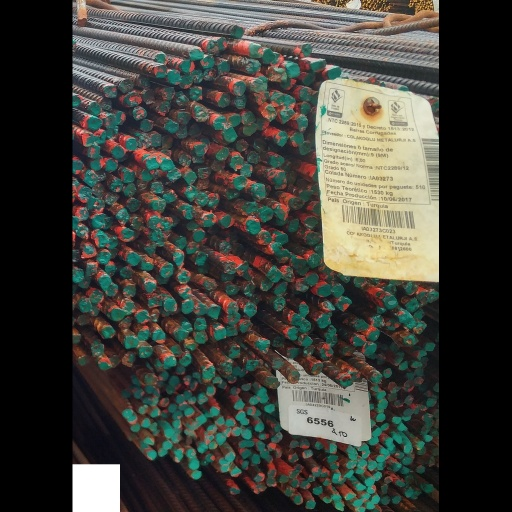dipstick: (168, 106, 187, 124), (71, 93, 97, 106), (287, 107, 308, 123), (194, 115, 218, 129), (293, 77, 315, 92), (247, 184, 269, 199), (108, 228, 130, 243), (108, 329, 130, 344), (96, 88, 115, 105), (224, 95, 247, 109), (236, 122, 259, 136), (280, 170, 301, 185), (149, 59, 173, 72), (324, 231, 348, 244), (272, 153, 294, 167), (113, 66, 135, 80), (144, 109, 166, 123), (118, 101, 140, 115), (121, 156, 143, 170), (107, 199, 129, 213), (34, 357, 56, 371), (201, 60, 220, 76), (298, 63, 318, 78), (203, 92, 223, 107), (127, 120, 147, 135), (62, 79, 87, 91), (179, 213, 199, 228), (44, 190, 64, 205), (340, 282, 360, 297), (311, 317, 331, 332), (252, 138, 275, 151), (341, 314, 364, 327), (280, 68, 301, 82), (208, 127, 229, 141), (324, 216, 345, 230), (368, 297, 389, 311), (342, 345, 363, 359), (188, 194, 206, 210), (31, 232, 49, 248), (139, 251, 155, 269), (50, 308, 74, 320), (478, 320, 496, 336), (317, 72, 339, 85), (242, 60, 264, 73), (166, 143, 188, 156), (85, 310, 107, 323), (304, 132, 323, 147), (219, 155, 238, 170), (152, 204, 171, 219), (362, 283, 381, 298), (68, 299, 87, 314), (264, 106, 284, 120), (83, 106, 103, 120), (25, 157, 45, 171), (102, 215, 122, 229), (213, 323, 233, 337), (72, 335, 92, 349), (256, 338, 276, 352), (216, 345, 236, 359), (160, 48, 183, 60), (67, 229, 90, 241), (385, 335, 410, 346), (164, 70, 185, 83), (172, 177, 193, 190), (75, 198, 96, 211), (268, 377, 289, 390), (6, 224, 23, 240), (282, 131, 300, 146), (165, 85, 183, 100), (171, 192, 189, 207), (284, 205, 302, 220), (16, 171, 34, 186), (7, 185, 25, 200), (34, 249, 52, 264), (100, 241, 118, 256), (247, 43, 266, 57), (185, 41, 204, 55), (312, 116, 331, 130), (132, 70, 151, 84), (203, 215, 222, 229), (25, 215, 44, 229), (13, 244, 32, 258), (120, 263, 139, 277), (349, 299, 368, 313), (434, 294, 453, 308), (463, 280, 482, 294), (416, 314, 435, 328), (282, 283, 304, 295), (236, 110, 256, 123), (122, 135, 142, 148), (452, 309, 472, 322), (386, 370, 406, 383), (336, 202, 352, 218), (156, 186, 173, 201), (25, 292, 48, 303), (317, 43, 335, 57), (331, 91, 349, 105), (264, 49, 282, 63), (223, 24, 241, 38), (277, 92, 295, 106), (243, 219, 261, 233), (44, 159, 62, 173), (147, 284, 165, 298), (125, 300, 146, 312), (403, 342, 421, 356), (243, 151, 262, 164), (122, 87, 141, 100), (142, 95, 161, 108), (132, 169, 151, 182), (291, 267, 310, 280), (272, 268, 291, 281), (29, 184, 48, 197), (22, 199, 41, 212), (190, 306, 209, 319), (354, 67, 376, 78), (21, 103, 43, 114), (100, 159, 122, 170), (438, 319, 460, 330), (333, 59, 353, 71), (295, 94, 311, 109), (91, 75, 111, 87), (44, 86, 64, 98), (39, 99, 59, 111), (18, 118, 42, 128), (193, 159, 213, 171), (305, 197, 321, 212), (303, 257, 323, 269), (316, 302, 331, 318), (96, 280, 116, 292), (317, 87, 334, 101), (255, 90, 272, 104), (162, 124, 179, 138), (106, 133, 123, 147), (226, 176, 243, 190), (206, 241, 223, 255), (312, 278, 329, 292), (1, 269, 18, 283), (224, 81, 242, 94), (150, 76, 168, 89), (71, 285, 89, 298), (92, 344, 110, 357), (181, 367, 199, 380), (412, 329, 430, 342), (115, 53, 134, 65), (233, 320, 252, 332), (300, 372, 319, 384), (5, 206, 20, 221), (283, 297, 298, 312), (317, 102, 333, 116), (278, 53, 294, 67), (92, 134, 108, 148), (148, 152, 164, 166), (52, 178, 68, 192), (169, 229, 185, 243), (69, 353, 85, 367), (209, 361, 225, 375), (258, 117, 275, 130), (217, 113, 234, 126), (23, 146, 40, 159), (235, 164, 252, 177), (262, 208, 279, 221), (68, 169, 85, 182), (71, 184, 88, 197), (238, 284, 255, 297), (196, 326, 213, 339), (170, 332, 187, 345), (392, 275, 409, 288), (272, 244, 292, 255), (393, 321, 413, 332), (371, 376, 391, 387), (183, 68, 201, 80), (250, 79, 268, 91), (71, 139, 89, 151), (155, 172, 173, 184), (298, 347, 316, 359), (171, 304, 189, 316), (9, 301, 27, 313), (41, 326, 59, 338), (477, 309, 495, 321), (276, 357, 294, 369), (203, 37, 218, 51), (318, 141, 333, 155), (173, 167, 194, 177), (287, 250, 302, 264), (326, 274, 347, 284), (110, 182, 129, 193), (213, 189, 232, 200), (258, 232, 277, 243), (64, 267, 83, 278), (171, 252, 190, 263), (211, 263, 230, 274), (214, 285, 233, 296), (106, 296, 125, 307), (259, 76, 275, 89), (327, 254, 343, 267), (0, 159, 13, 175), (148, 269, 164, 282), (170, 317, 186, 330), (153, 321, 169, 334), (31, 131, 48, 143), (151, 301, 168, 313), (128, 355, 145, 367), (467, 299, 484, 311), (445, 432, 462, 444), (179, 57, 199, 67), (282, 234, 302, 244), (207, 272, 227, 282), (142, 329, 162, 339), (44, 117, 62, 128), (13, 133, 31, 144), (127, 192, 145, 203), (82, 218, 100, 229), (76, 253, 94, 264), (94, 259, 112, 270), (215, 313, 233, 324), (242, 360, 260, 371), (18, 262, 32, 276), (0, 94, 13, 109), (322, 189, 335, 204), (37, 275, 50, 290), (464, 334, 479, 347), (229, 139, 245, 151), (96, 120, 112, 132), (201, 148, 217, 160), (62, 210, 78, 222), (45, 283, 61, 295), (280, 335, 296, 347), (240, 304, 256, 316), (150, 355, 166, 367), (301, 451, 317, 463), (94, 171, 113, 181), (259, 280, 278, 290), (316, 336, 335, 346), (182, 280, 201, 290), (25, 347, 44, 357), (312, 265, 329, 276), (125, 219, 142, 230), (136, 347, 153, 358), (415, 373, 432, 384), (107, 407, 124, 418), (60, 112, 74, 125), (302, 219, 315, 233), (231, 262, 244, 276), (356, 327, 370, 340), (335, 363, 349, 376), (484, 291, 498, 304), (50, 237, 65, 249), (143, 237, 158, 249), (213, 304, 231, 314), (156, 339, 171, 351), (203, 379, 218, 391), (186, 385, 201, 397), (55, 146, 71, 157), (301, 329, 317, 340), (92, 331, 108, 342), (486, 482, 502, 493), (102, 450, 118, 461), (127, 427, 143, 438), (165, 153, 184, 162), (471, 361, 490, 370), (356, 444, 375, 453), (48, 129, 65, 139), (461, 408, 478, 418), (317, 439, 334, 449), (492, 340, 506, 352), (410, 461, 422, 475), (332, 466, 346, 478), (120, 370, 134, 382), (224, 244, 239, 255), (355, 453, 370, 464), (198, 433, 213, 444), (101, 374, 116, 385), (337, 441, 355, 450), (495, 397, 511, 407), (424, 413, 440, 423), (412, 436, 428, 446), (319, 449, 335, 459), (287, 474, 303, 484), (253, 473, 269, 483), (224, 399, 240, 409), (148, 125, 160, 138), (52, 248, 65, 260), (441, 391, 454, 403), (110, 308, 121, 322), (424, 461, 438, 472), (396, 458, 410, 469), (159, 222, 176, 231), (453, 361, 470, 370), (422, 391, 439, 400), (434, 438, 451, 447), (134, 376, 151, 385), (159, 243, 174, 253), (174, 263, 189, 273), (362, 473, 377, 483), (308, 495, 323, 505), (245, 395, 260, 405), (278, 433, 293, 443), (479, 350, 495, 359), (430, 423, 448, 431), (418, 429, 436, 437), (428, 446, 444, 455), (361, 493, 379, 501), (489, 413, 505, 422), (333, 486, 349, 495), (271, 477, 287, 486), (259, 394, 275, 403), (158, 449, 174, 458), (143, 366, 159, 375), (145, 401, 163, 409), (139, 411, 155, 420), (101, 437, 117, 446), (96, 417, 108, 429), (463, 442, 474, 455), (240, 270, 254, 280), (477, 377, 491, 387), (326, 500, 340, 510), (296, 488, 310, 498), (173, 393, 187, 403), (127, 440, 141, 450), (388, 500, 405, 508), (267, 404, 284, 412), (236, 430, 251, 439), (162, 459, 177, 468), (166, 470, 181, 479), (81, 423, 96, 432), (48, 264, 59, 276), (478, 440, 490, 451), (176, 442, 188, 453), (434, 368, 447, 378), (216, 374, 229, 384), (242, 406, 255, 416), (222, 427, 235, 437), (193, 406, 206, 416), (93, 405, 106, 415), (444, 341, 457, 351), (445, 416, 461, 424), (401, 491, 417, 499), (378, 470, 394, 478), (194, 376, 210, 384), (407, 502, 421, 511), (396, 483, 410, 492), (303, 440, 317, 449), (319, 480, 333, 489), (303, 470, 317, 479), (220, 487, 234, 496), (254, 421, 268, 430), (213, 453, 227, 462), (122, 398, 136, 407), (281, 421, 292, 432), (463, 381, 475, 391), (465, 395, 477, 405), (463, 488, 475, 498), (430, 494, 442, 504), (412, 485, 427, 493), (381, 461, 396, 469), (282, 448, 294, 458), (219, 387, 234, 395), (221, 468, 236, 476), (190, 442, 205, 450), (69, 409, 84, 417), (443, 496, 460, 503), (395, 468, 412, 475), (257, 433, 274, 440), (204, 458, 221, 465), (323, 346, 336, 355), (427, 400, 440, 409), (250, 455, 263, 464), (153, 375, 166, 384), (160, 395, 173, 404), (86, 389, 99, 398), (454, 424, 470, 431), (479, 465, 493, 473), (416, 496, 430, 504), (460, 458, 474, 466), (382, 447, 398, 454), (305, 480, 319, 488), (272, 469, 286, 477), (232, 418, 246, 426), (228, 412, 242, 420), (185, 455, 201, 462), (134, 404, 148, 412), (121, 449, 135, 457), (351, 495, 362, 505), (363, 462, 374, 472), (496, 455, 506, 466), (488, 424, 498, 435), (456, 466, 468, 475), (210, 428, 222, 437), (201, 417, 213, 426), (262, 449, 274, 458), (399, 443, 414, 450), (213, 419, 228, 426), (205, 465, 220, 472), (155, 407, 170, 414), (479, 368, 492, 376), (250, 409, 263, 417), (162, 381, 175, 389), (163, 422, 176, 430), (78, 415, 91, 423), (257, 441, 267, 451), (224, 367, 235, 376), (139, 434, 150, 443), (502, 445, 511, 456), (426, 353, 435, 364), (380, 493, 394, 500), (366, 502, 380, 509), (347, 471, 361, 478), (236, 450, 250, 457), (143, 394, 157, 401), (450, 399, 462, 407), (462, 475, 474, 483), (405, 450, 417, 458), (233, 368, 245, 376), (233, 440, 245, 448), (410, 478, 423, 485), (173, 416, 186, 423), (140, 420, 153, 427), (423, 455, 441, 460), (259, 388, 274, 394), (167, 372, 178, 380), (155, 390, 166, 398), (237, 384, 251, 390), (178, 460, 192, 466), (106, 425, 118, 432), (101, 387, 113, 394), (273, 442, 282, 451), (236, 460, 245, 469), (441, 382, 452, 389), (491, 435, 502, 442), (348, 480, 363, 485), (465, 373, 477, 379), (389, 453, 398, 461), (271, 455, 279, 463), (505, 383, 512, 392), (431, 343, 438, 352), (245, 442, 254, 448)
